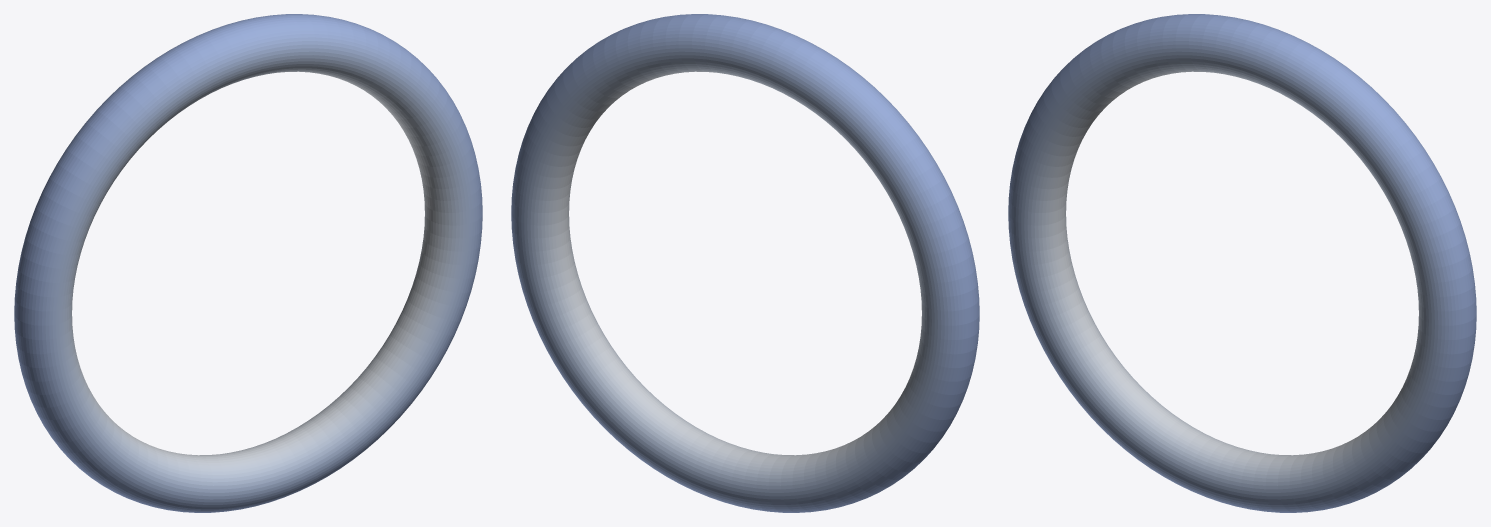
The picture shows the model from 3 angles, left to right: view 1: azimuth 30°, elevation 25°; view 2: azimuth 150°, elevation 25°; view 3: azimuth 330°, elevation 25°; orthographic projection.
Parts seen in each view (by area): view 1: world; view 2: world; view 3: world.
Boxes of the visible parts, x1,y1,x2,y2 form: world: [14, 14, 482, 512]; world: [511, 14, 979, 512]; world: [1008, 14, 1476, 512].
Size of the model in its own units: 30.67 by 30.67 by 3.33.
